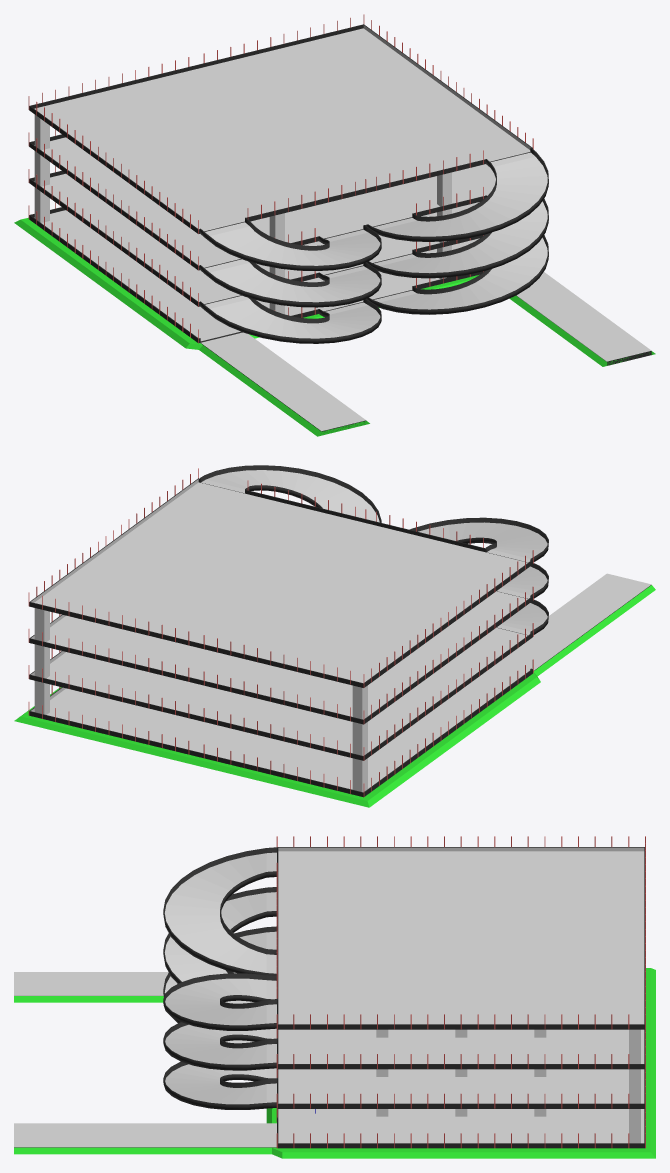
The model's file is car park.fbx.
The picture shows the model from 3 angles, top to bottom: view 1: azimuth 30°, elevation 25°; view 2: azimuth 150°, elevation 25°; view 3: azimuth 270°, elevation 25°; orthographic projection. The views are drawn at different scales.
Visible parts, largest first — view 1: Circle, Plane, Circle.001, Cube.001; view 2: Circle, Plane, Circle.001, Cube.001; view 3: Circle, Plane, Circle.001, Cube.001.
Part boxes in pixels (x1,y1,x2,y2): Circle: (28,14,651,431); Plane: (200,148,548,343); Circle.001: (14,217,655,436); Cube.001: (34,114,451,314); Circle: (28,468,651,797); Plane: (200,465,548,635); Circle.001: (14,585,655,807); Cube.001: (34,608,367,792); Circle: (14,836,645,1148); Plane: (163,847,277,1109); Circle.001: (14,968,655,1158); Cube.001: (376,1029,640,1143).
Bounding box in the file's own units: 4243 × 6100 × 1456.
